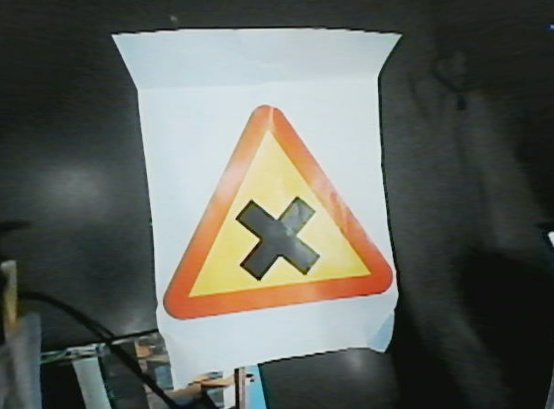junction: (138, 100, 398, 314)
